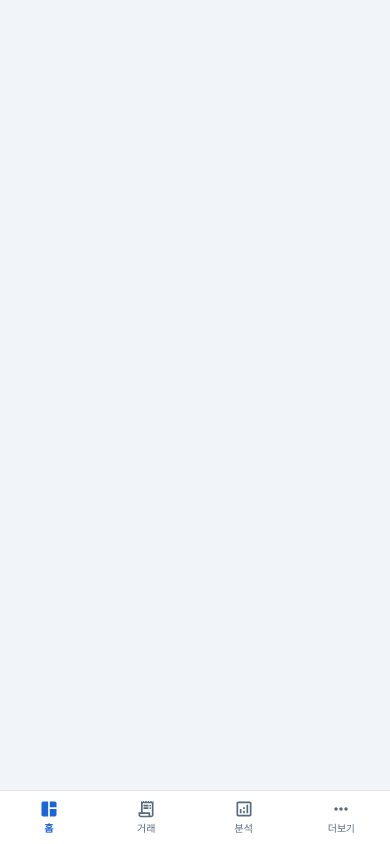
Test: 더보기 시트 › 열면 나머지 그룹과 가이드가 나온다
Click the button "더보기" at [341, 818], box [292,791,389,843]
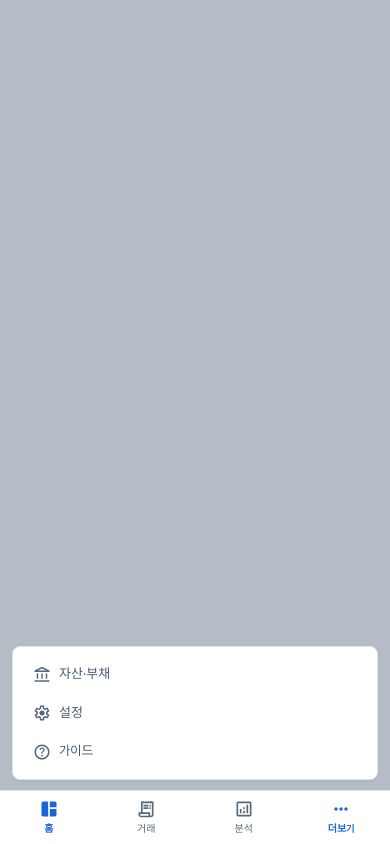
Check: the link "자산·부채" is shown, box [33,666,110,684]
Check: the link "설정" is shown, box [33,704,83,722]
Check: the link "가이드" is shown, box [33,743,93,761]
